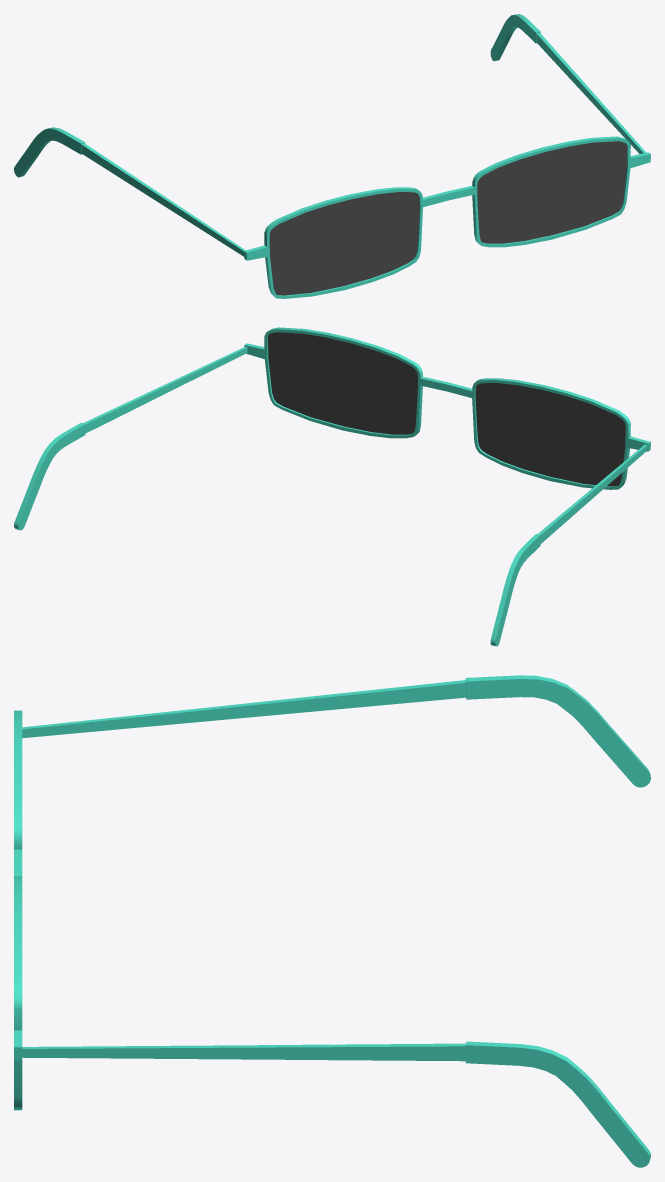
Rendered from glasses-7.glb.
The picture shows the model from 3 angles, top to bottom: view 1: azimuth 30°, elevation 25°; view 2: azimuth 150°, elevation 25°; view 3: azimuth 270°, elevation 25°; orthographic projection. The views are drawn at different scales.
Visible parts, largest first — view 1: glasses29.001; view 2: glasses29.001; view 3: glasses29.001.
Part boxes in pixels (x1,y1,x2,y2): glasses29.001: (14, 14, 650, 298); glasses29.001: (14, 327, 650, 646); glasses29.001: (14, 675, 650, 1167).
Bounding box in the file's own units: 2.11 × 0.3851 × 1.47.
